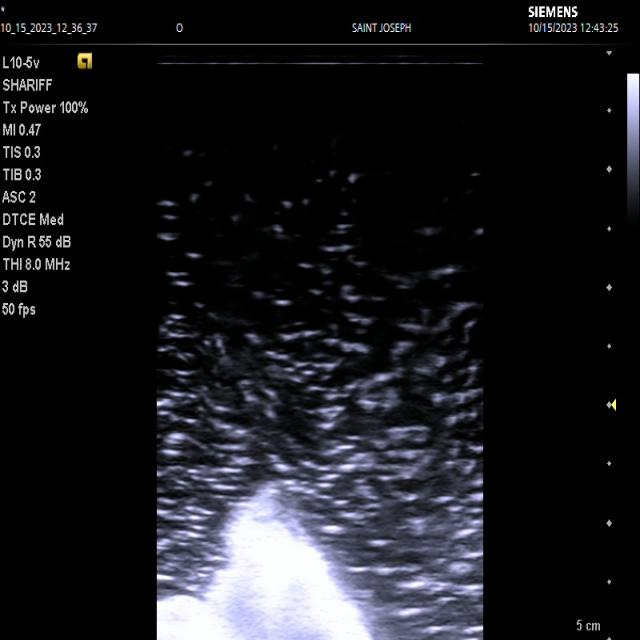tissue: (159, 484, 373, 640)
